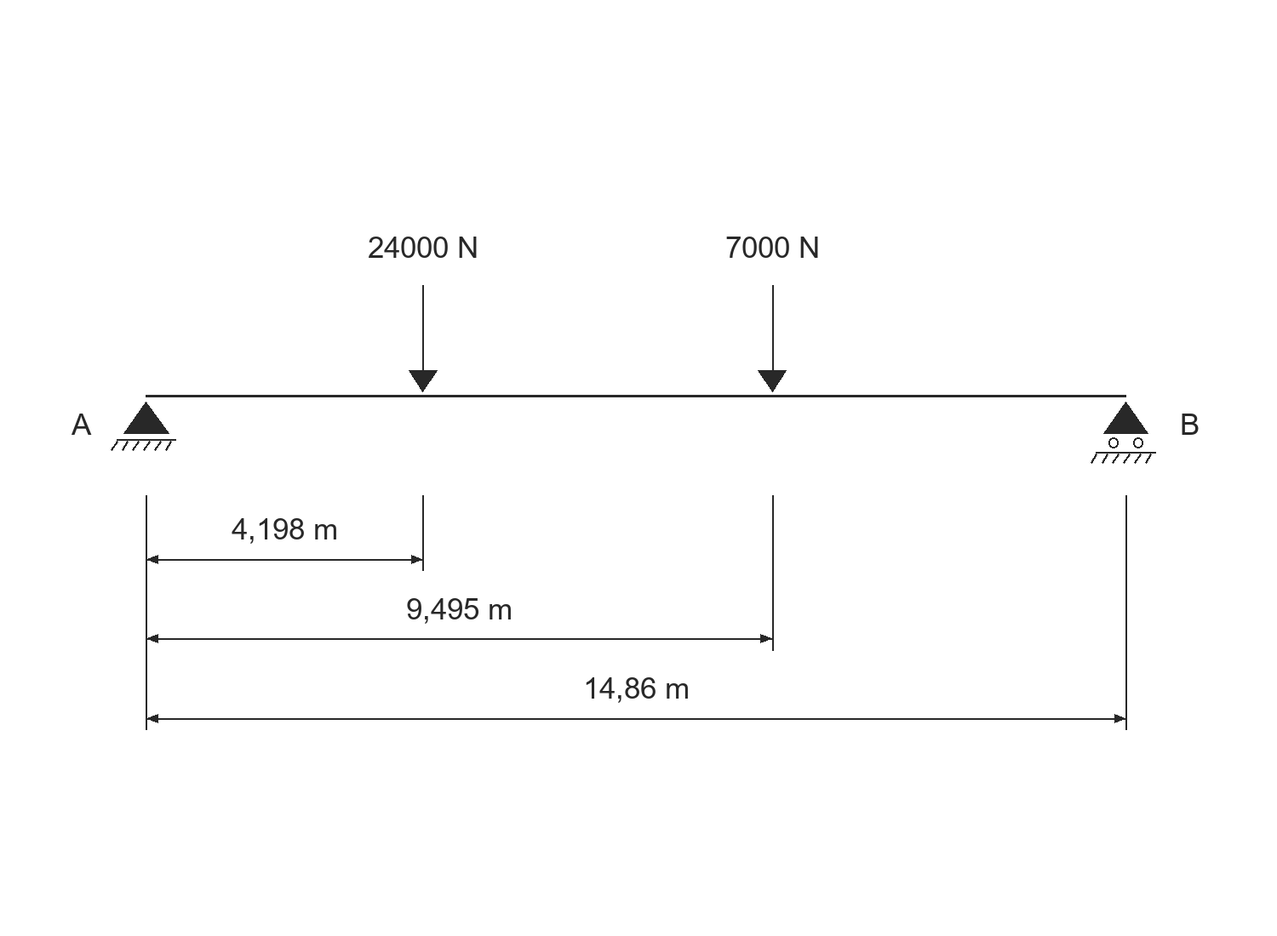pin_support: (111, 402, 176, 451)
point_load: (409, 285, 438, 392), (758, 285, 787, 392)
roller_support: (1091, 402, 1156, 464)
